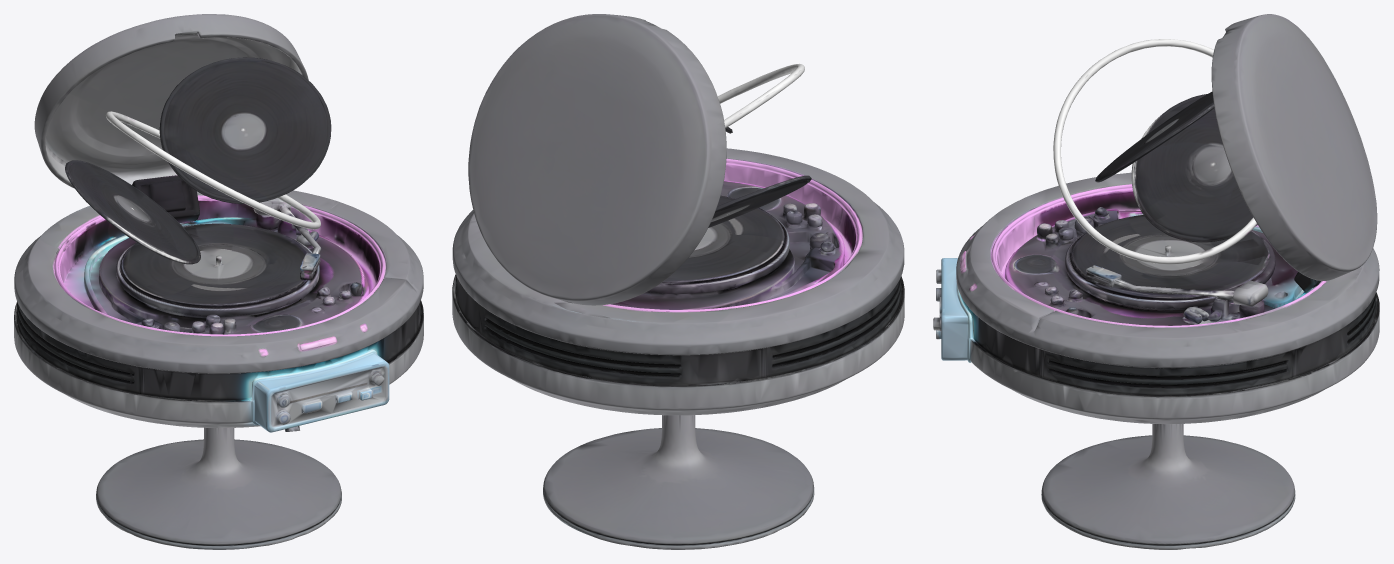
The model's file is vinil-v2.glb.
3 views of the same model, side by side, from view 1: azimuth 30°, elevation 25°; view 2: azimuth 150°, elevation 25°; view 3: azimuth 270°, elevation 25° (orthographic). The views are drawn at different scales.
Visible parts, largest first — view 1: Mesh_0; view 2: Mesh_0; view 3: Mesh_0.
Part boxes in pixels (x1,y1,x2,y2): Mesh_0: (14, 14, 423, 549); Mesh_0: (452, 14, 904, 549); Mesh_0: (933, 14, 1379, 549).
Size of the model in its own units: 0.8697 by 1.06 by 0.9137.
1 material, 1 textured.
